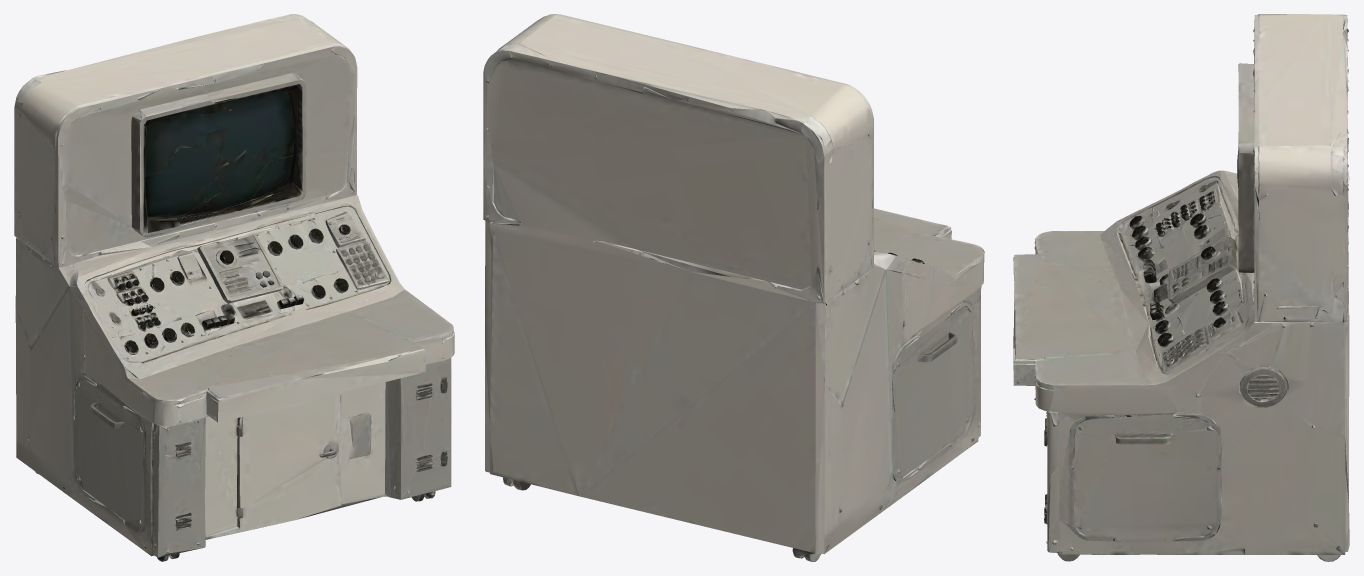
Rendered from launch-console.glb.
The picture shows the model from 3 angles, left to right: view 1: azimuth 30°, elevation 25°; view 2: azimuth 150°, elevation 25°; view 3: azimuth 270°, elevation 25°; orthographic projection. The views are drawn at different scales.
Size of the model in its own units: 1.62 by 1.9 by 1.4.
1 material, 1 textured.
